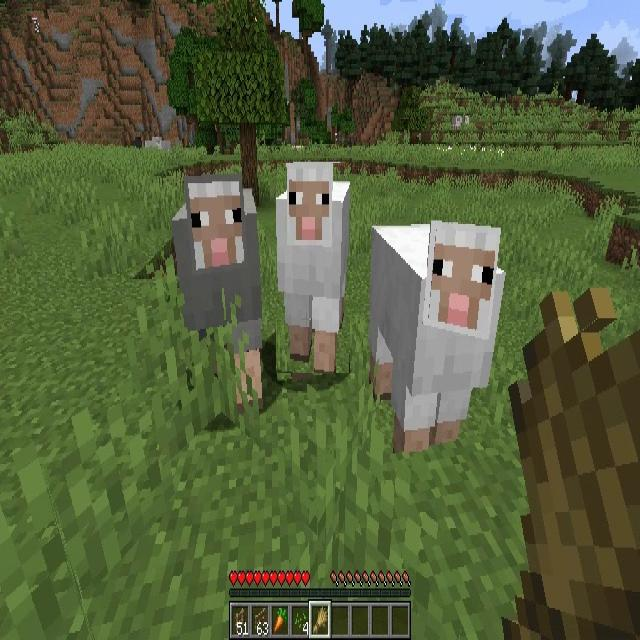sheep: (371, 219, 505, 446), (174, 176, 262, 406), (276, 163, 350, 373), (453, 114, 462, 130), (464, 115, 470, 127)
